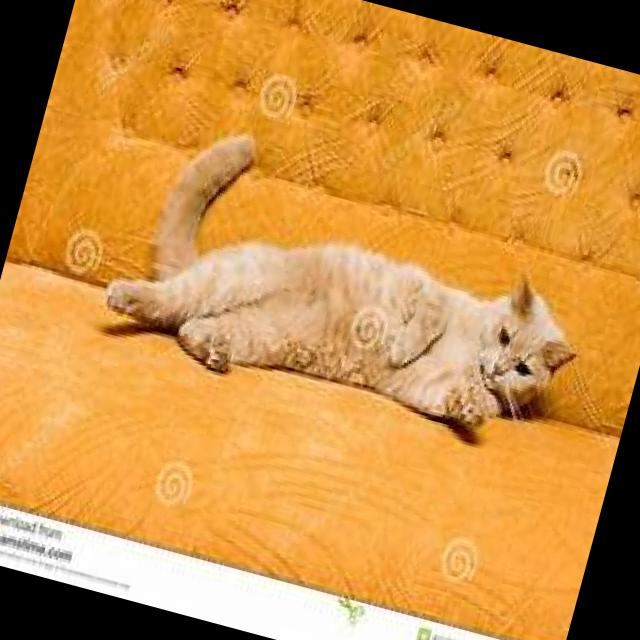animal: (91, 117, 608, 460)
